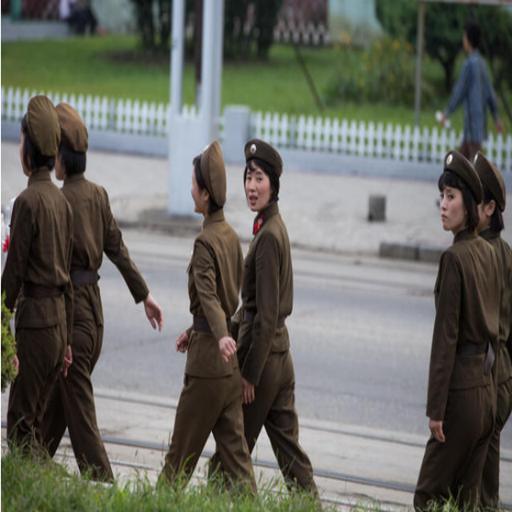north army: (0, 73, 165, 504), (176, 88, 345, 505), (416, 120, 512, 512)
